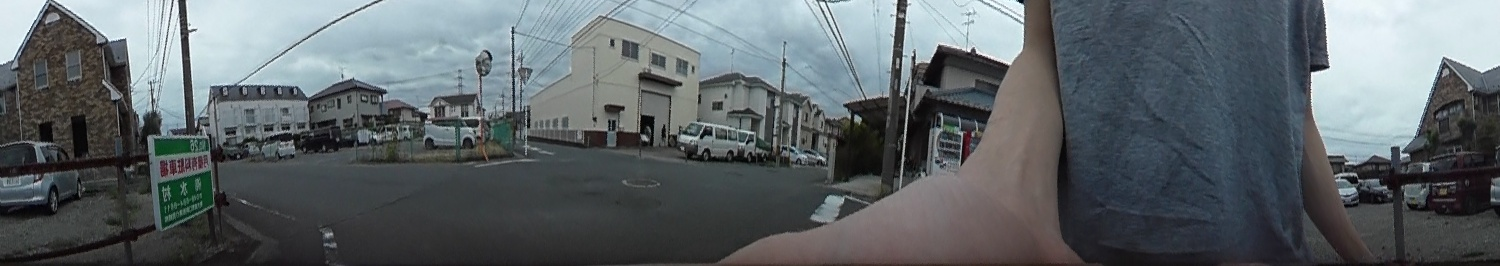difficult_person: (658, 121, 668, 149)
